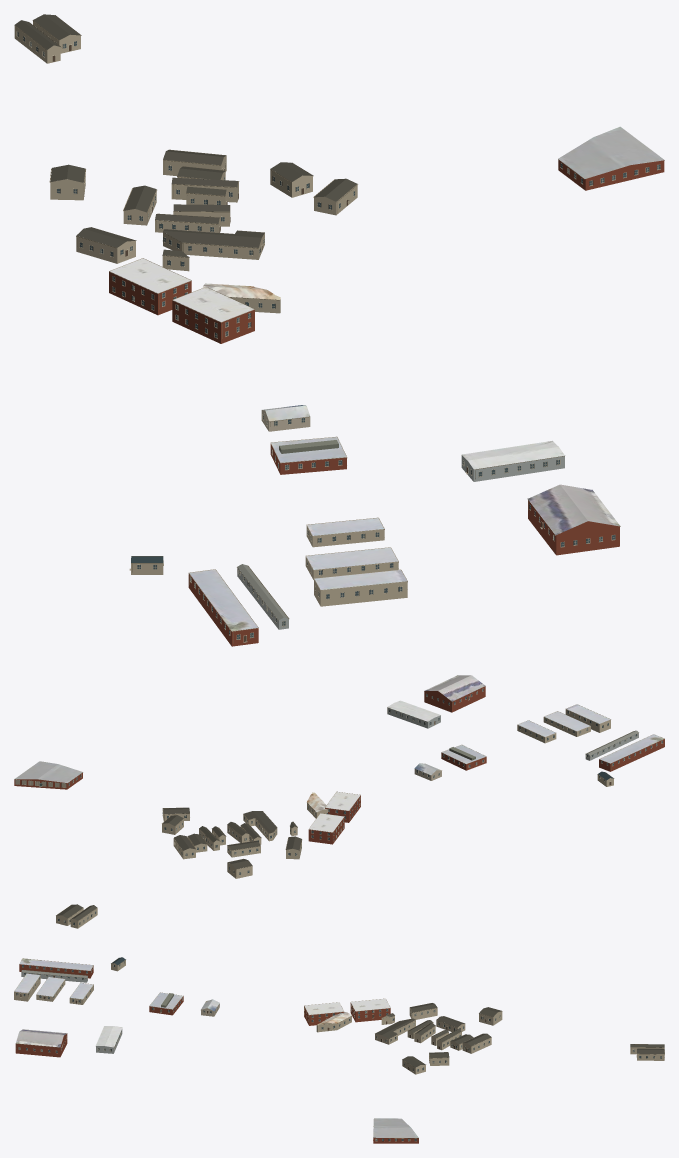
The picture shows the model from 3 angles, top to bottom: view 1: azimuth 30°, elevation 25°; view 2: azimuth 150°, elevation 25°; view 3: azimuth 270°, elevation 25°; orthographic projection. The views are drawn at different scales.
Parts seen in each view (by area): view 1: 1_-4_598632856_0, 1_-4_598635159_5, 1_-4_598635163_9, 1_-4_598635155_3; view 2: 1_-4_598632856_0, 1_-4_598635159_5, 1_-4_598635163_9, 1_-4_598635155_3; view 3: 1_-4_598632856_0, 1_-4_598635159_5, 1_-4_598635163_9, 1_-4_598635155_3.
Part boxes in pixels (left/top/right/bottom): 1_-4_598632856_0: left=14, top=15, right=664, bottom=646; 1_-4_598635159_5: left=14, top=20, right=407, bottom=606; 1_-4_598635163_9: left=15, top=14, right=357, bottom=619; 1_-4_598635155_3: left=237, top=455, right=564, bottom=629; 1_-4_598632856_0: left=14, top=675, right=664, bottom=927; 1_-4_598635159_5: left=56, top=709, right=613, bottom=928; 1_-4_598635163_9: left=56, top=730, right=638, bottom=920; 1_-4_598635155_3: left=387, top=707, right=638, bottom=760; 1_-4_598632856_0: left=14, top=958, right=664, bottom=1143; 1_-4_598635159_5: left=14, top=960, right=664, bottom=1074; 1_-4_598635163_9: left=21, top=957, right=664, bottom=1067; 1_-4_598635155_3: left=21, top=972, right=122, bottom=1053.
Bounding box in the file's own units: 308 × 22.16 × 440.
Materials: 15 (1 with a texture image).
